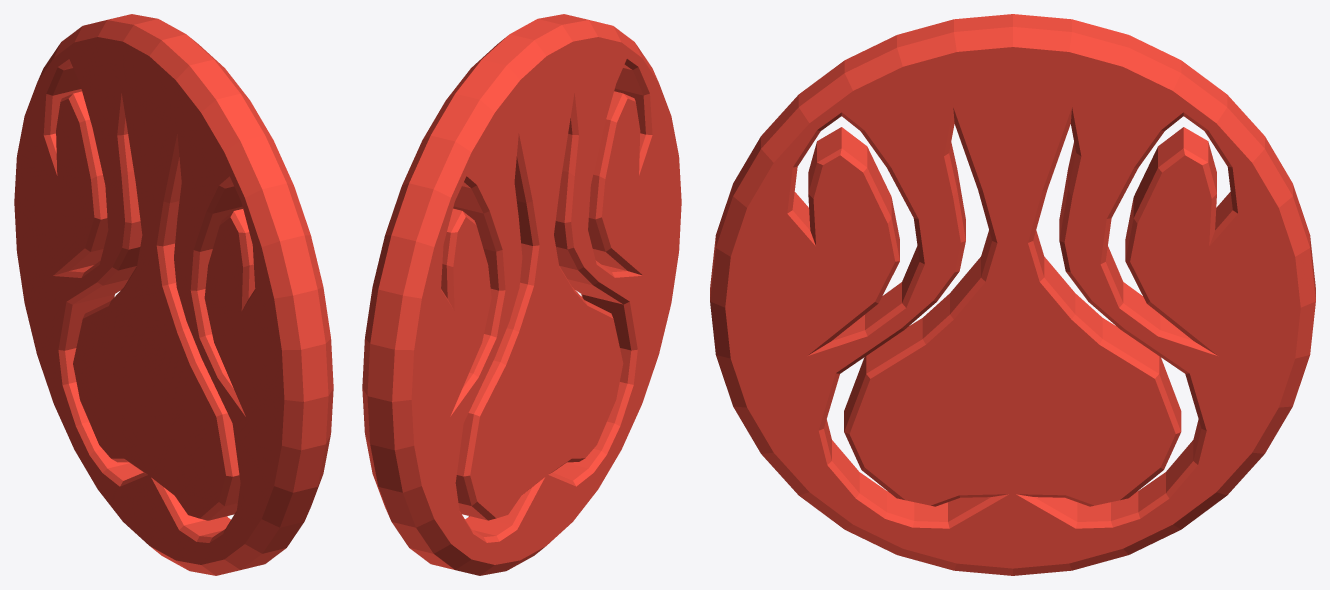
The model's file is heartcoin.fbx.
The picture shows the model from 3 angles, left to right: view 1: azimuth 30°, elevation 25°; view 2: azimuth 150°, elevation 25°; view 3: azimuth 270°, elevation 25°; orthographic projection. The views are drawn at different scales.
Visible parts, largest first — view 1: rai; view 2: rai; view 3: rai.
Part boxes in pixels (x1,y1,x2,y2): rai: (14,14,333,575); rai: (362,14,681,575); rai: (710,14,1315,575).
Size of the model in its own units: 60 by 600 by 600.
1 material, 1 textured.
